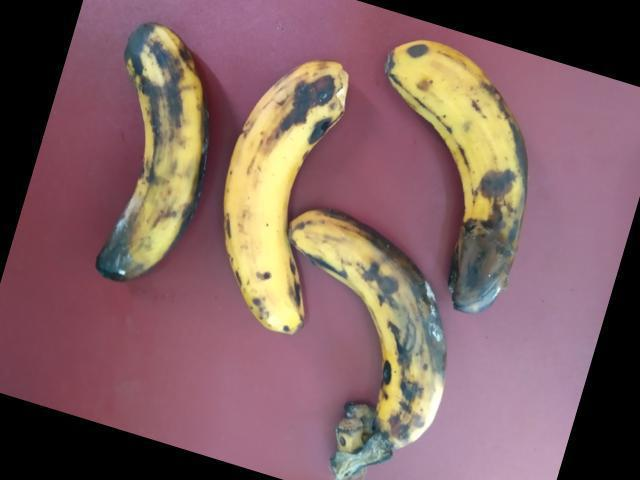overripe: (202, 4, 352, 339)
rotten: (41, 19, 209, 315), (382, 26, 534, 318), (304, 205, 441, 469)
